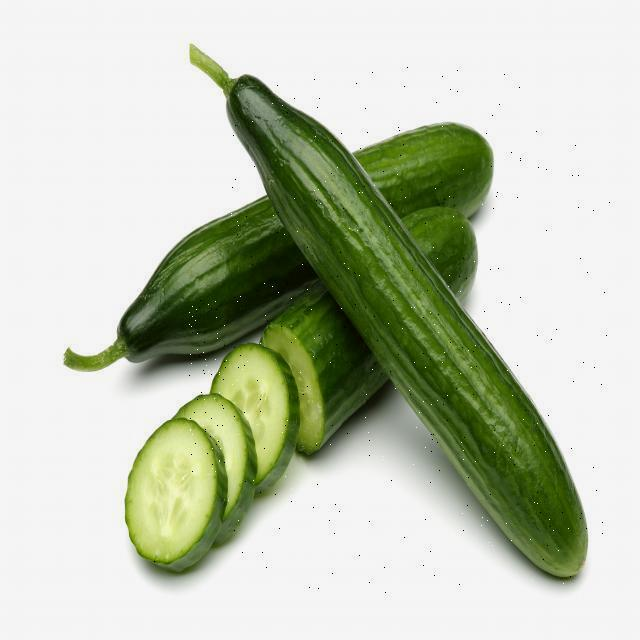Cucumber: (200, 42, 582, 578), (106, 198, 316, 358)
